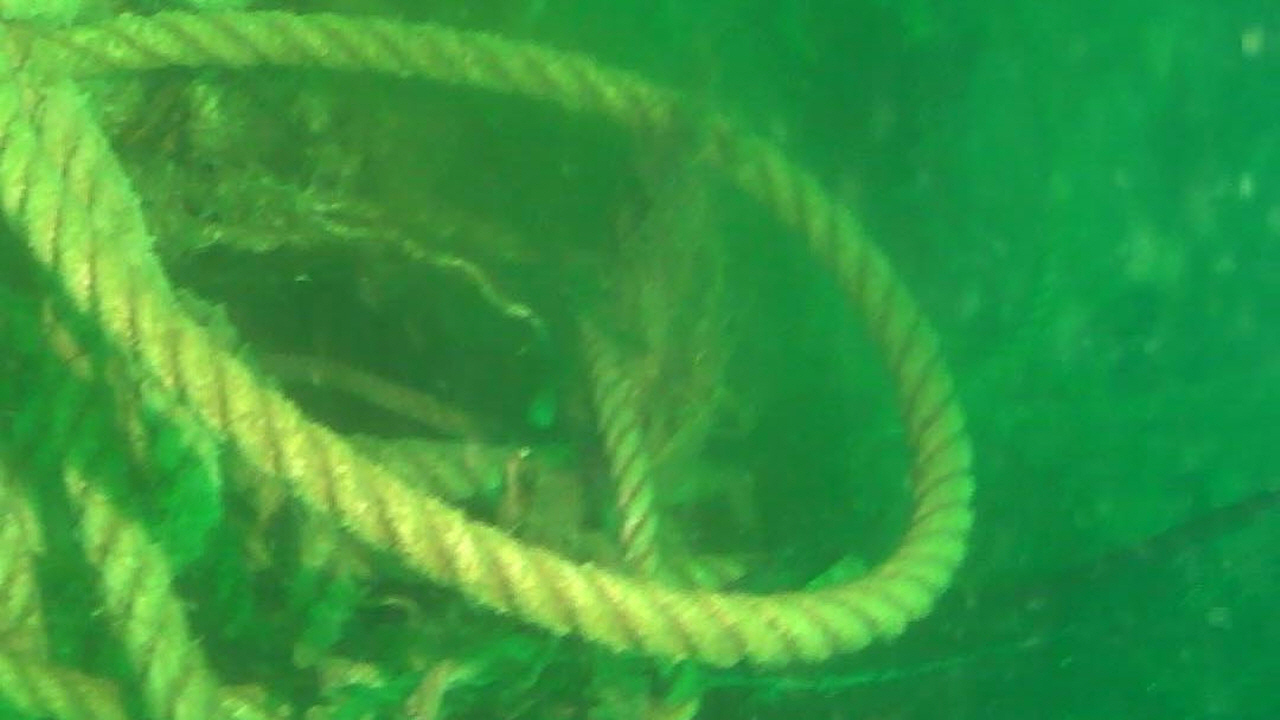bundle of ropes: (1, 11, 976, 720)
